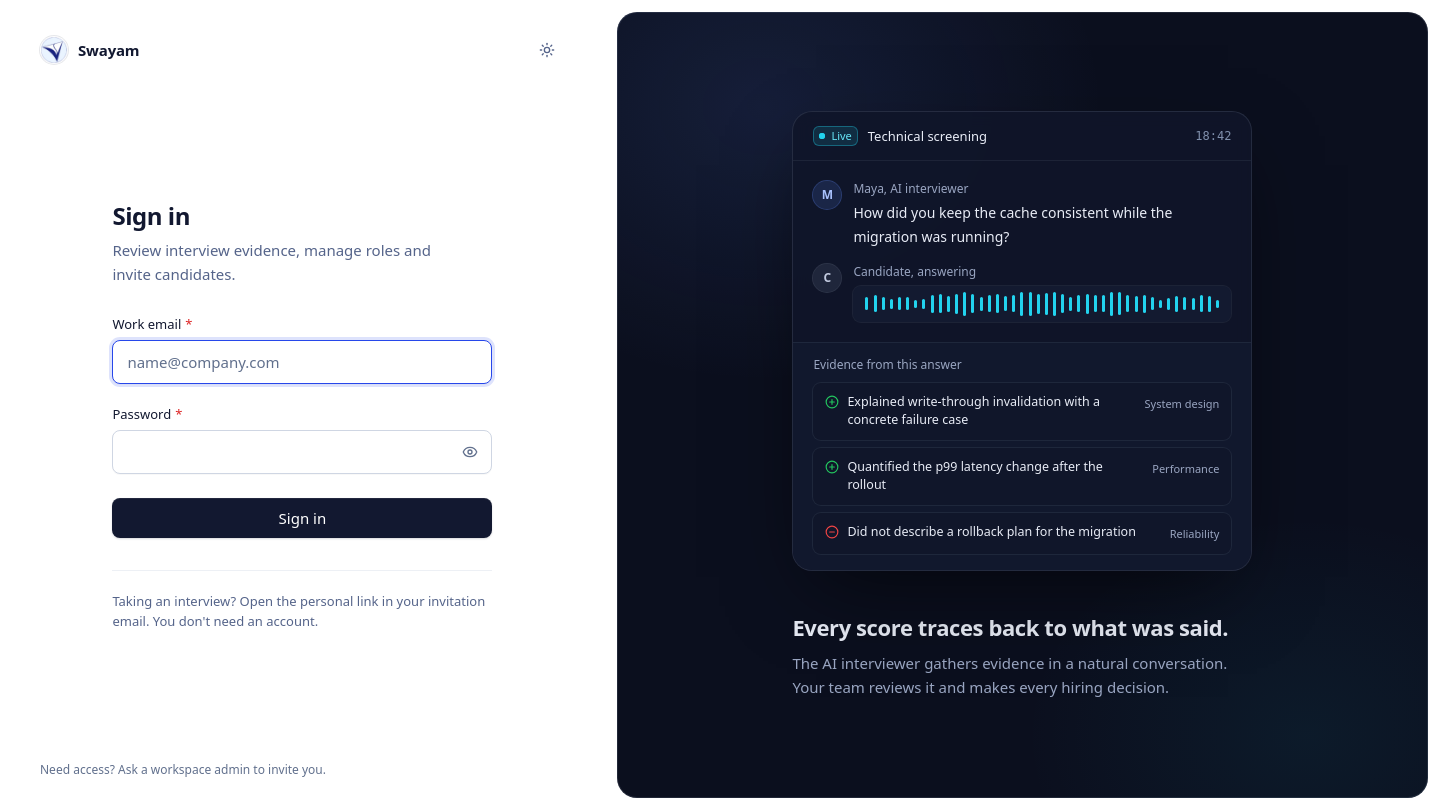
LoginPage › pauses the form while rate limited
The width and height of the screenshot is (1440, 810).
Step 1. Type "priya@acme.test" into the field labelled "Work email *" → (302, 362), box x1=112 y1=340 x2=492 y2=384
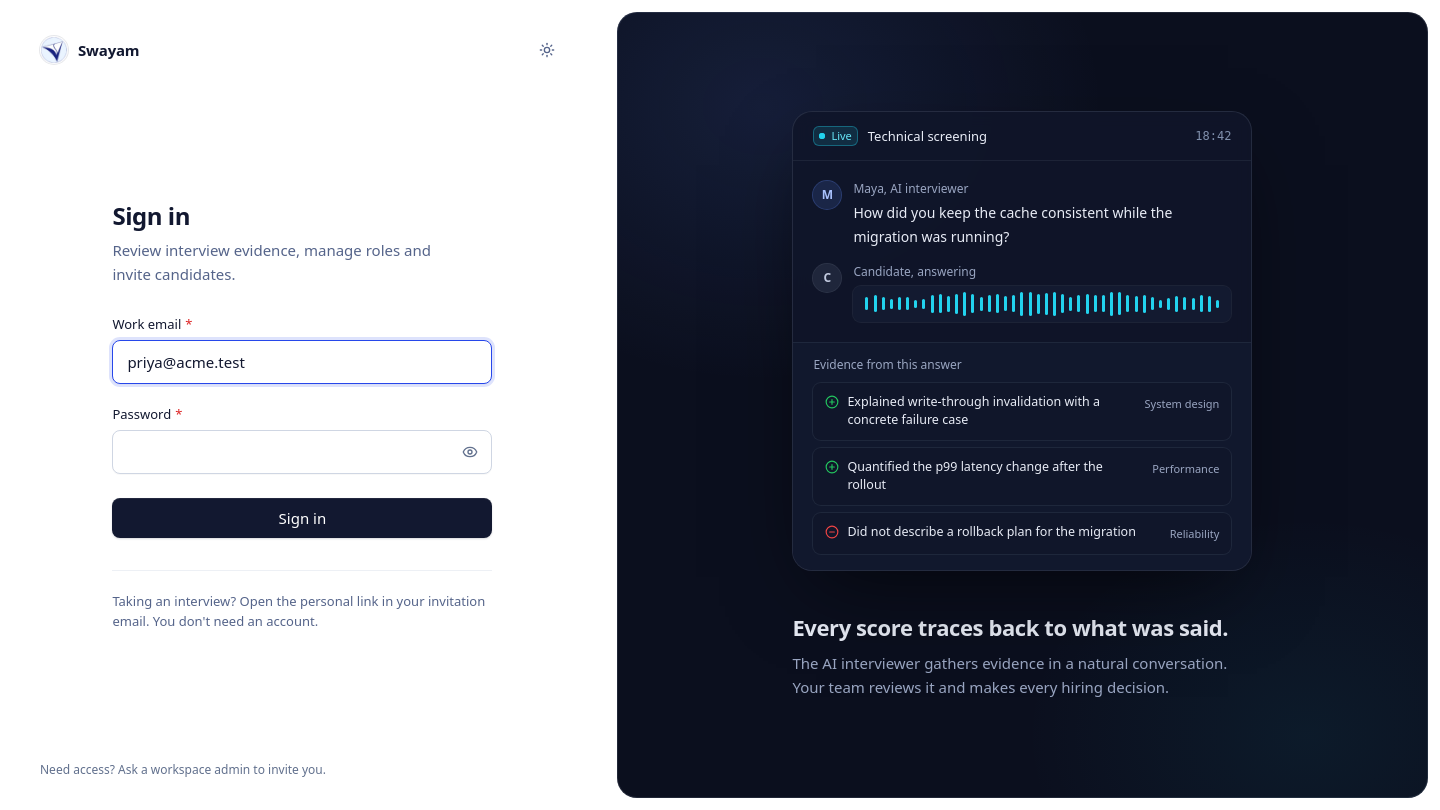
Step 2. Type "pw" into the password field labelled "Password *" → (302, 452), box x1=112 y1=430 x2=492 y2=474
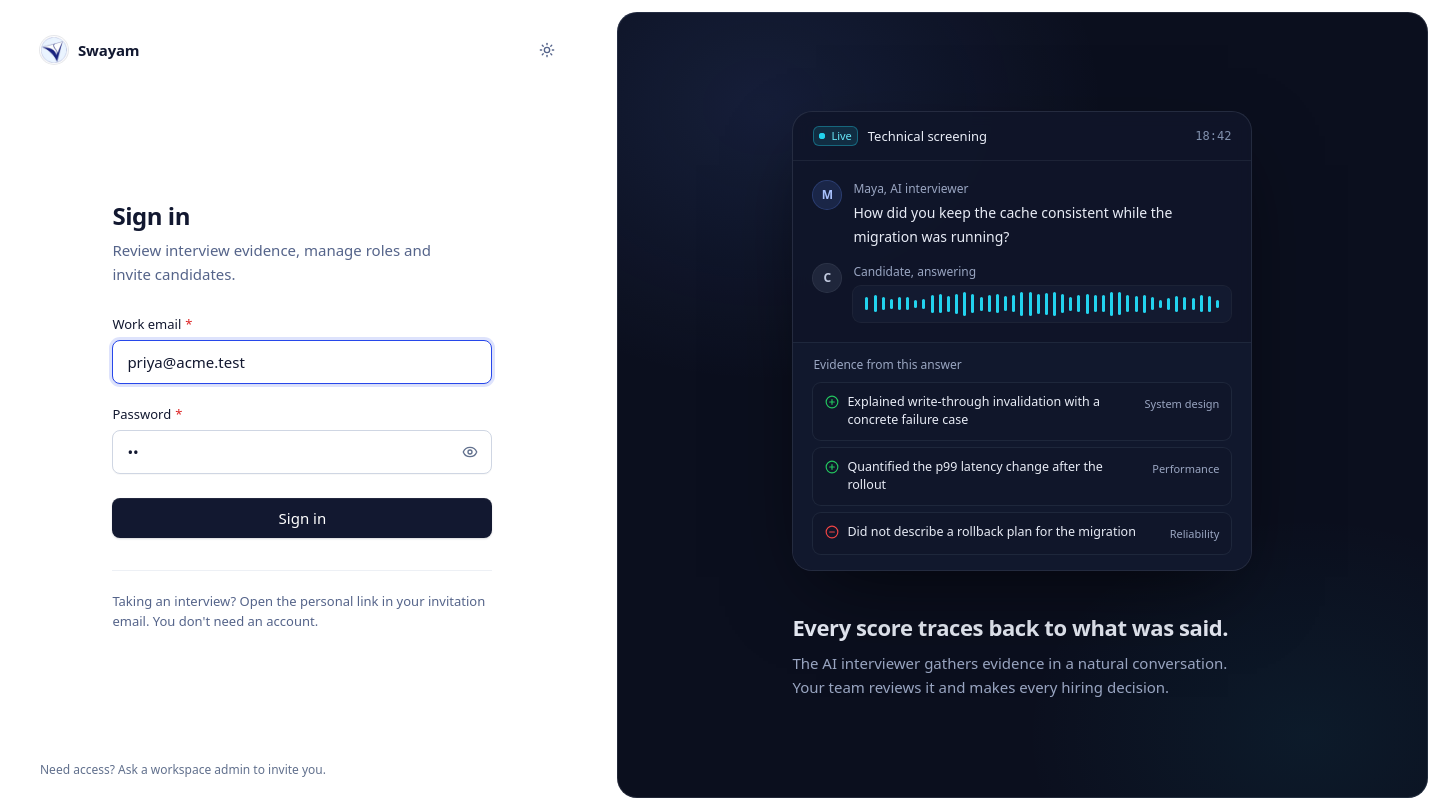
Step 3. Click the button "Sign in" → (302, 518), box x1=112 y1=498 x2=492 y2=538
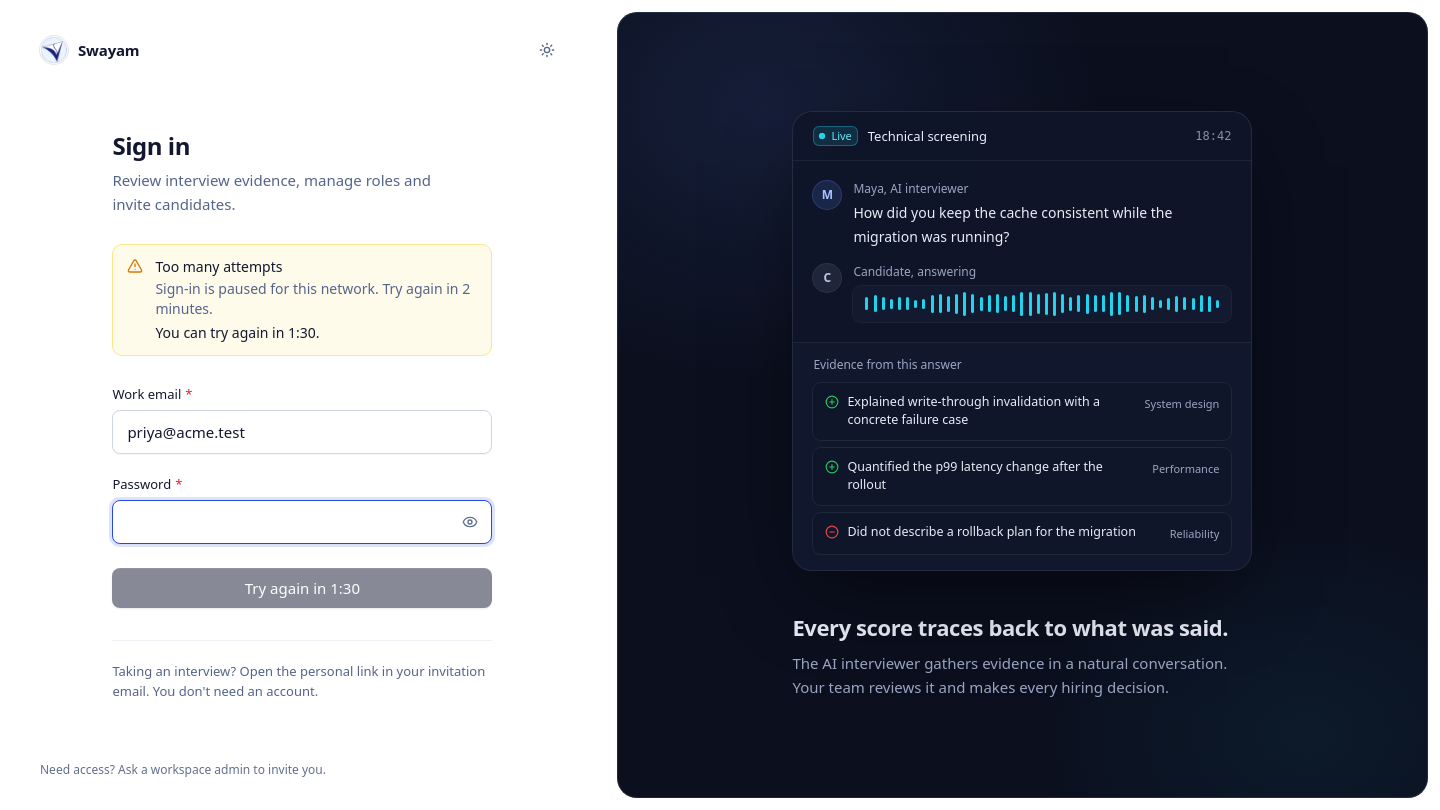
Check: the text "Too many attempts" is shown, box x1=155 y1=256 x2=282 y2=276
Check: the button "Try again in 1:30" is disabled, box x1=112 y1=568 x2=492 y2=608
